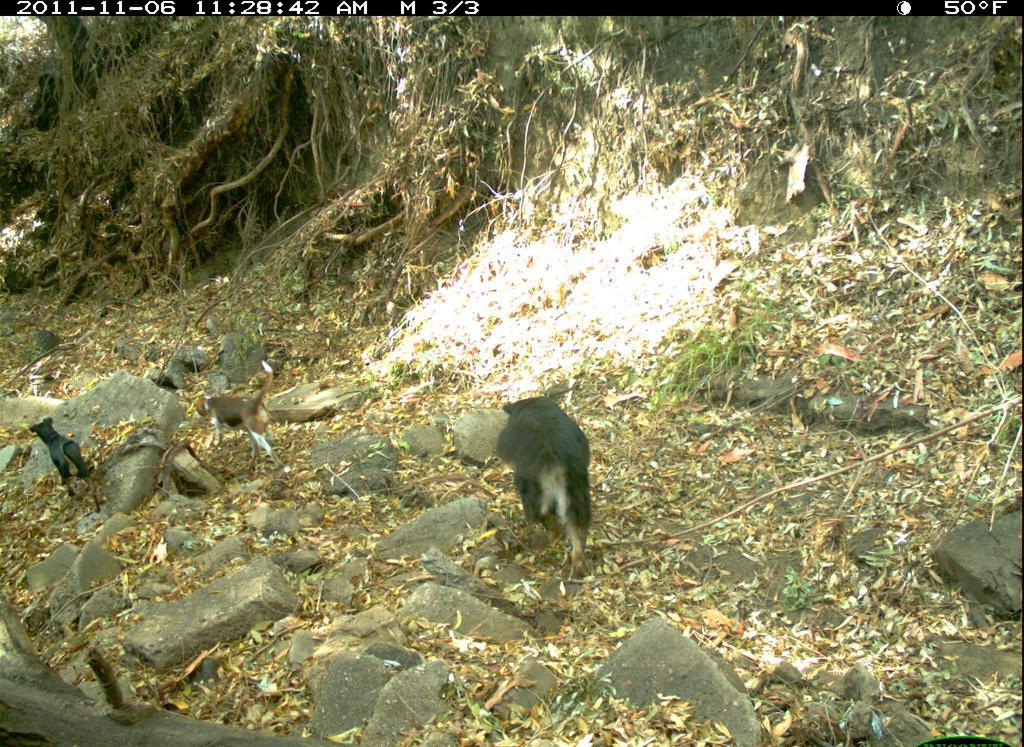dog: (487, 388, 601, 579), (190, 359, 291, 470), (22, 415, 112, 513)
